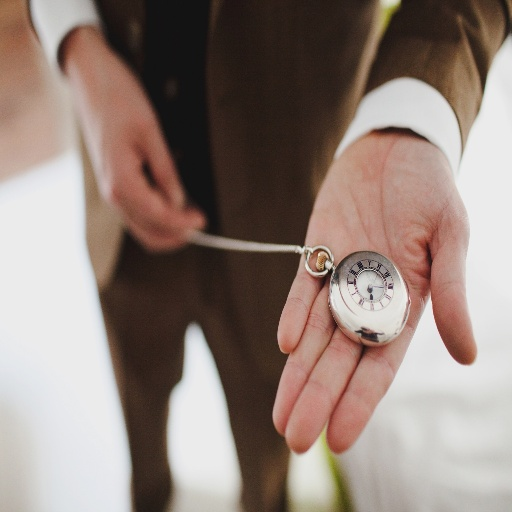hand: (272, 127, 477, 453), (68, 46, 206, 252)
